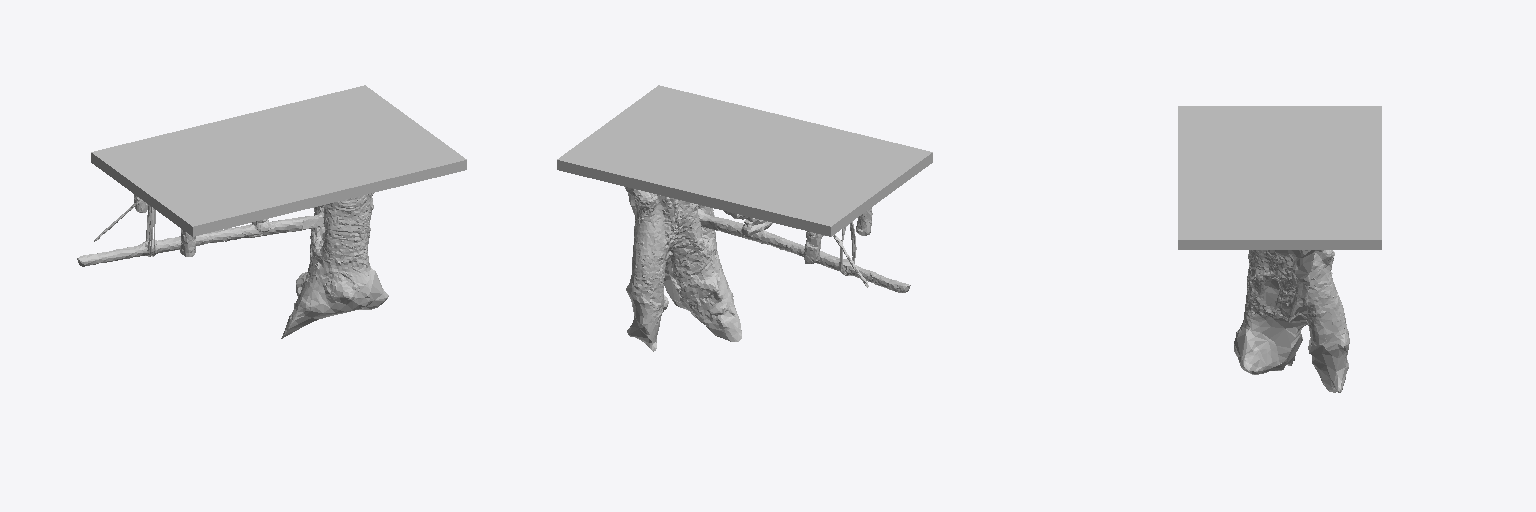
The model's file is prensa.obj.
3 renders of one model, left to right at view 1: azimuth 30°, elevation 25°; view 2: azimuth 150°, elevation 25°; view 3: azimuth 270°, elevation 25°, orthographic.
Parts seen in each view (by area): view 1: Plane_Plane.001; view 2: Plane_Plane.001; view 3: Plane_Plane.001.
Boxes of the visible parts, x1=… form: Plane_Plane.001: x1=77, y1=85, x2=466, y2=338; Plane_Plane.001: x1=557, y1=85, x2=932, y2=351; Plane_Plane.001: x1=1178, y1=106, x2=1381, y2=392.
Bounding box in the file's own units: 477 × 268 × 262.